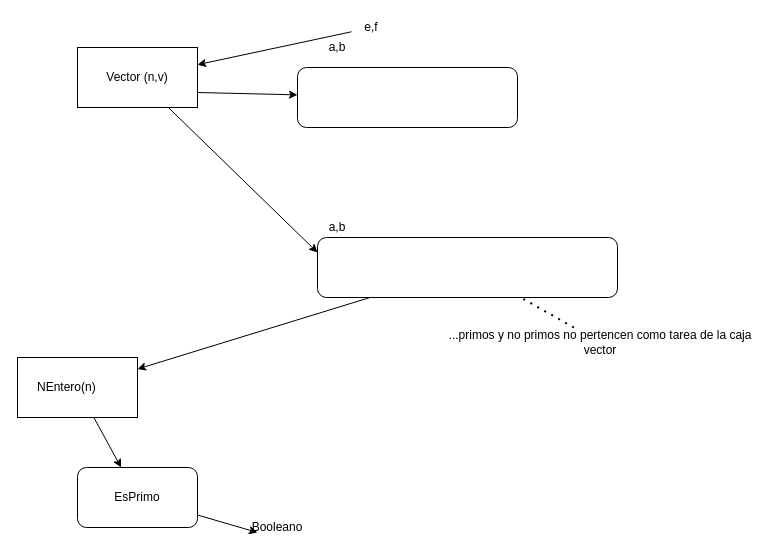
This 771x558 diagram has some shape labels left out. The shapes that lost their labels are listed below. From the top down, each one's centre as x and y in pixels, then its label:
At (407,97): "distribucionFrecuenciaAyB".
At (467,267): "intercalarPrimosNoPrimosOrdenadosAyB".
